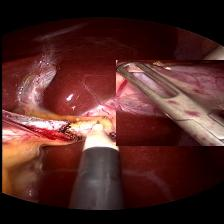Grasper: (115, 60, 224, 146)
Hook: (78, 115, 116, 153)
